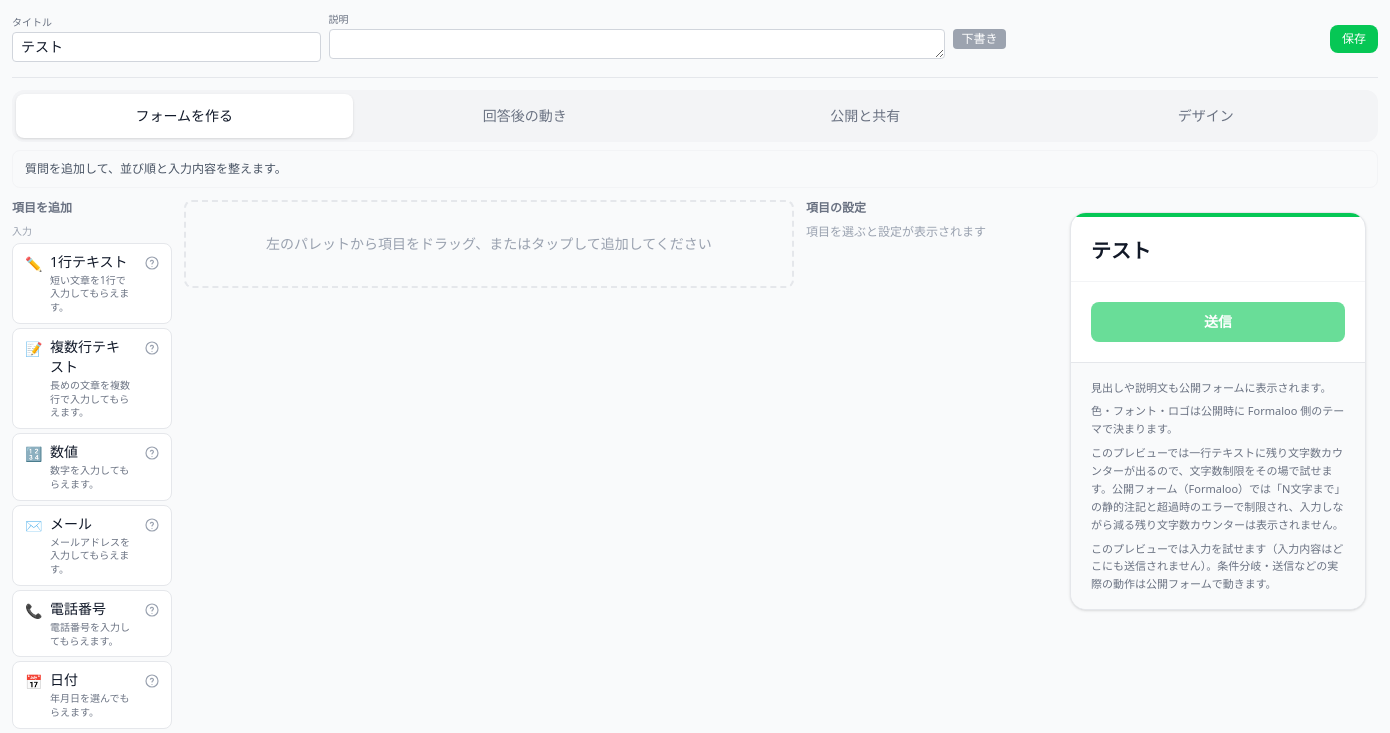
Test: FormBuilder — パレット & 追加 (T-B1) › パレット項目をタップするとキャンバスに追加される
Click the button with aria-label "1行テキストを追加".
click(92, 283)  # box [12,242,172,324]
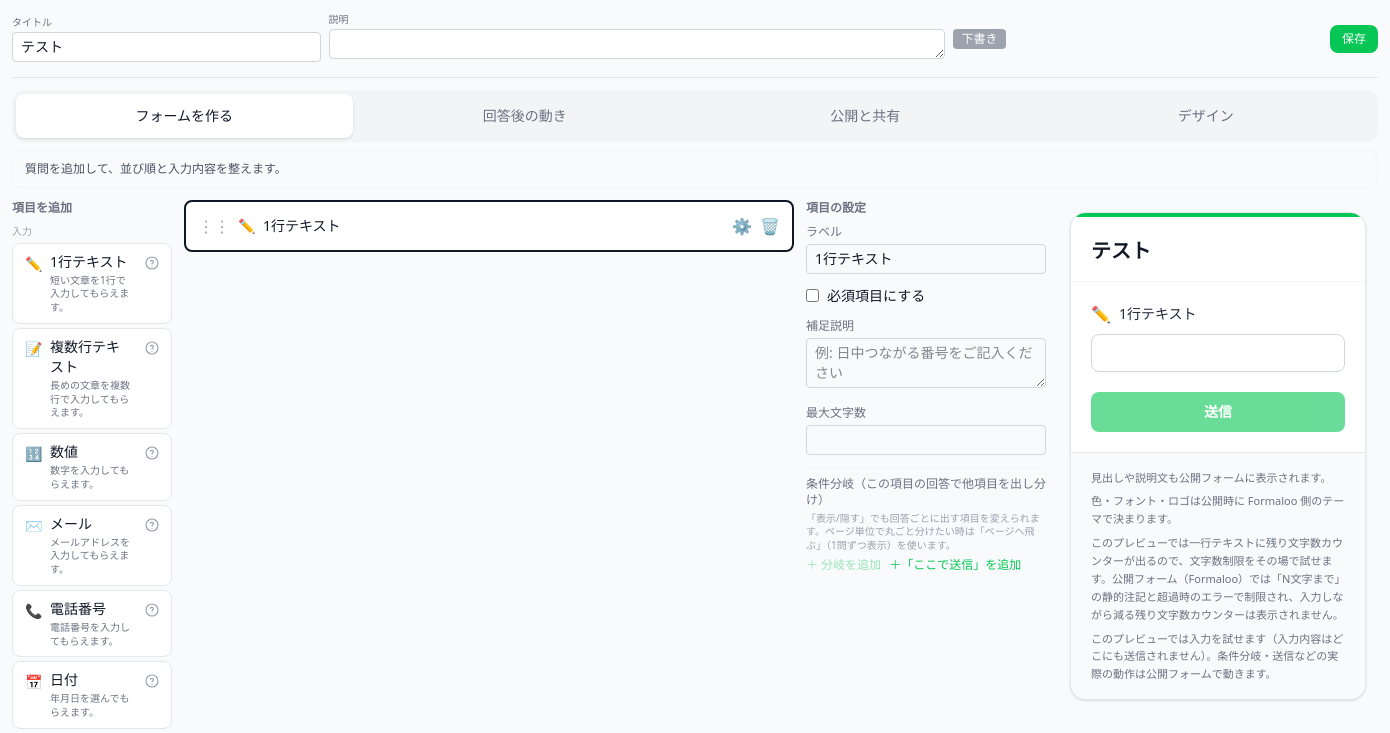
Now the 1st text "1行テキスト" is shown, box [263,216,341,236]
